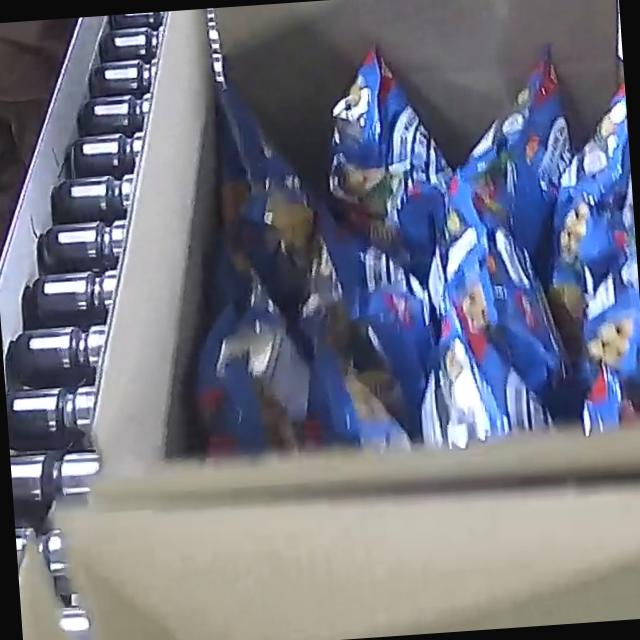paprika: (167, 21, 640, 464)
